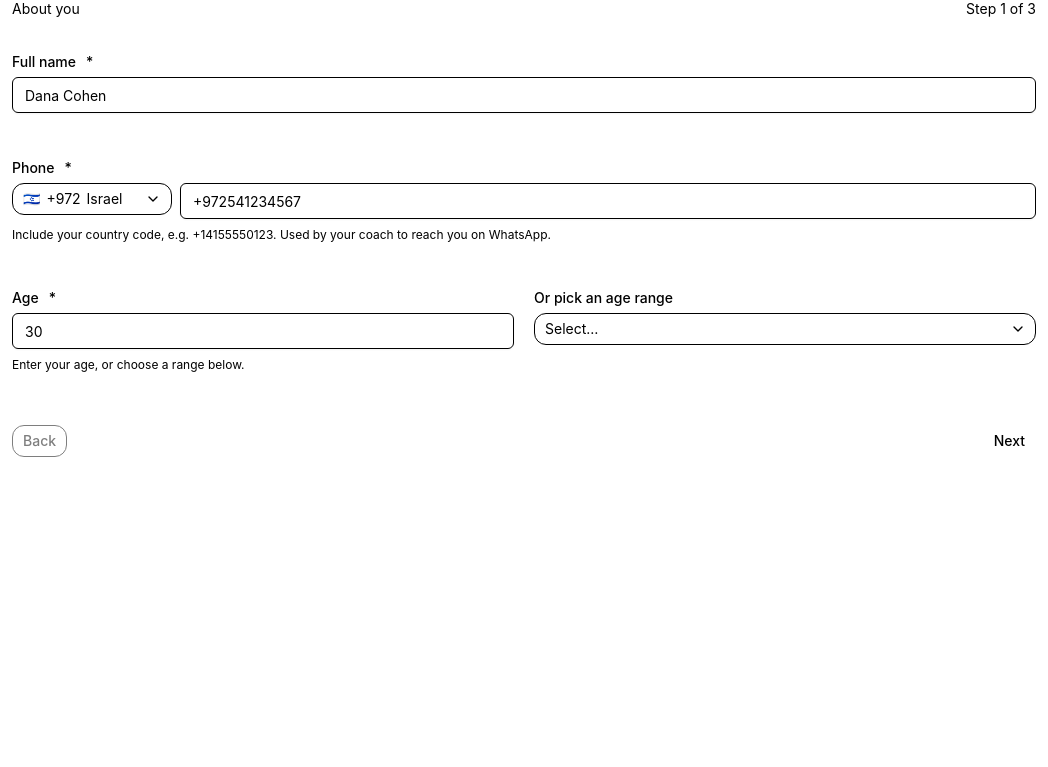
OnboardingForm save-then-generate flow › keeps Generate disabled until the profile is saved
Click the button "Next". click: (1009, 441)
box: [983,425,1036,457]
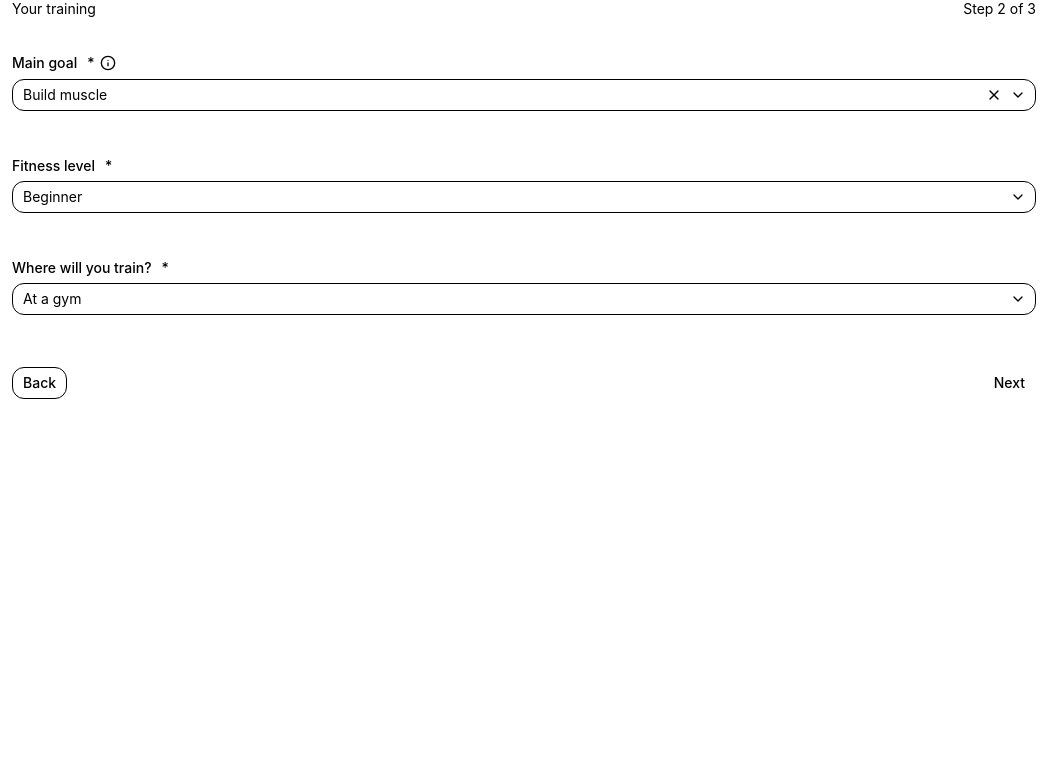
Click the button "Next". click: (1009, 383)
box: [983,367,1036,399]
(page scrolled)
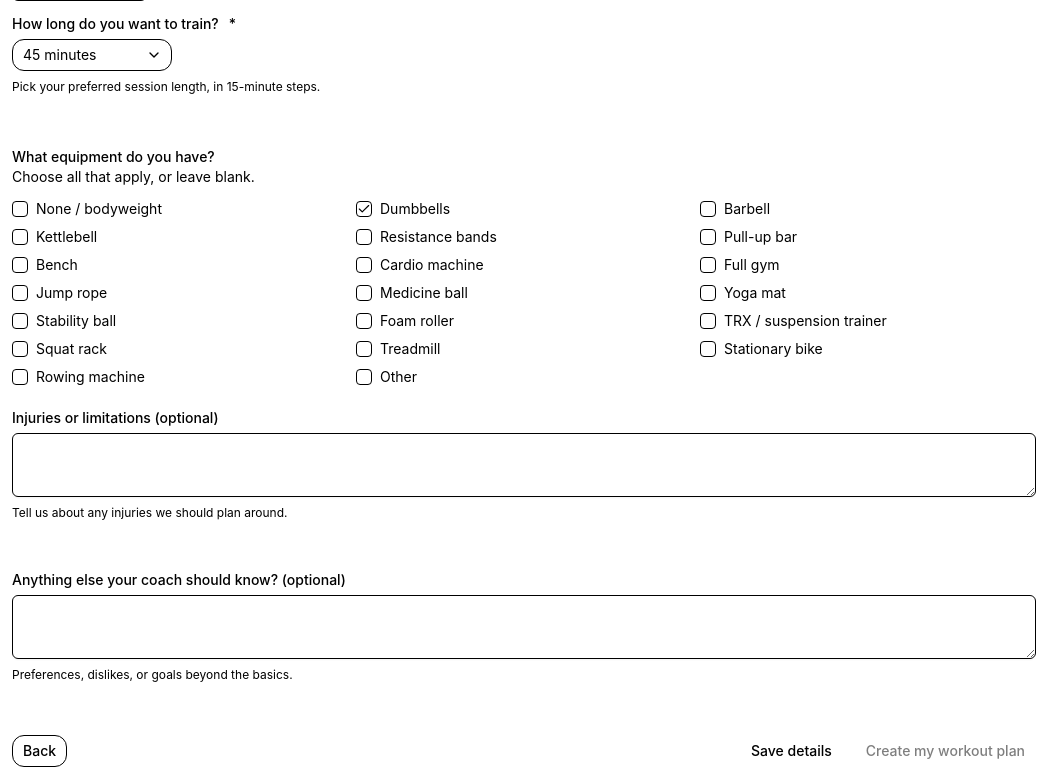
Result: the button "Create my workout plan" is disabled at [855,735,1036,766]
